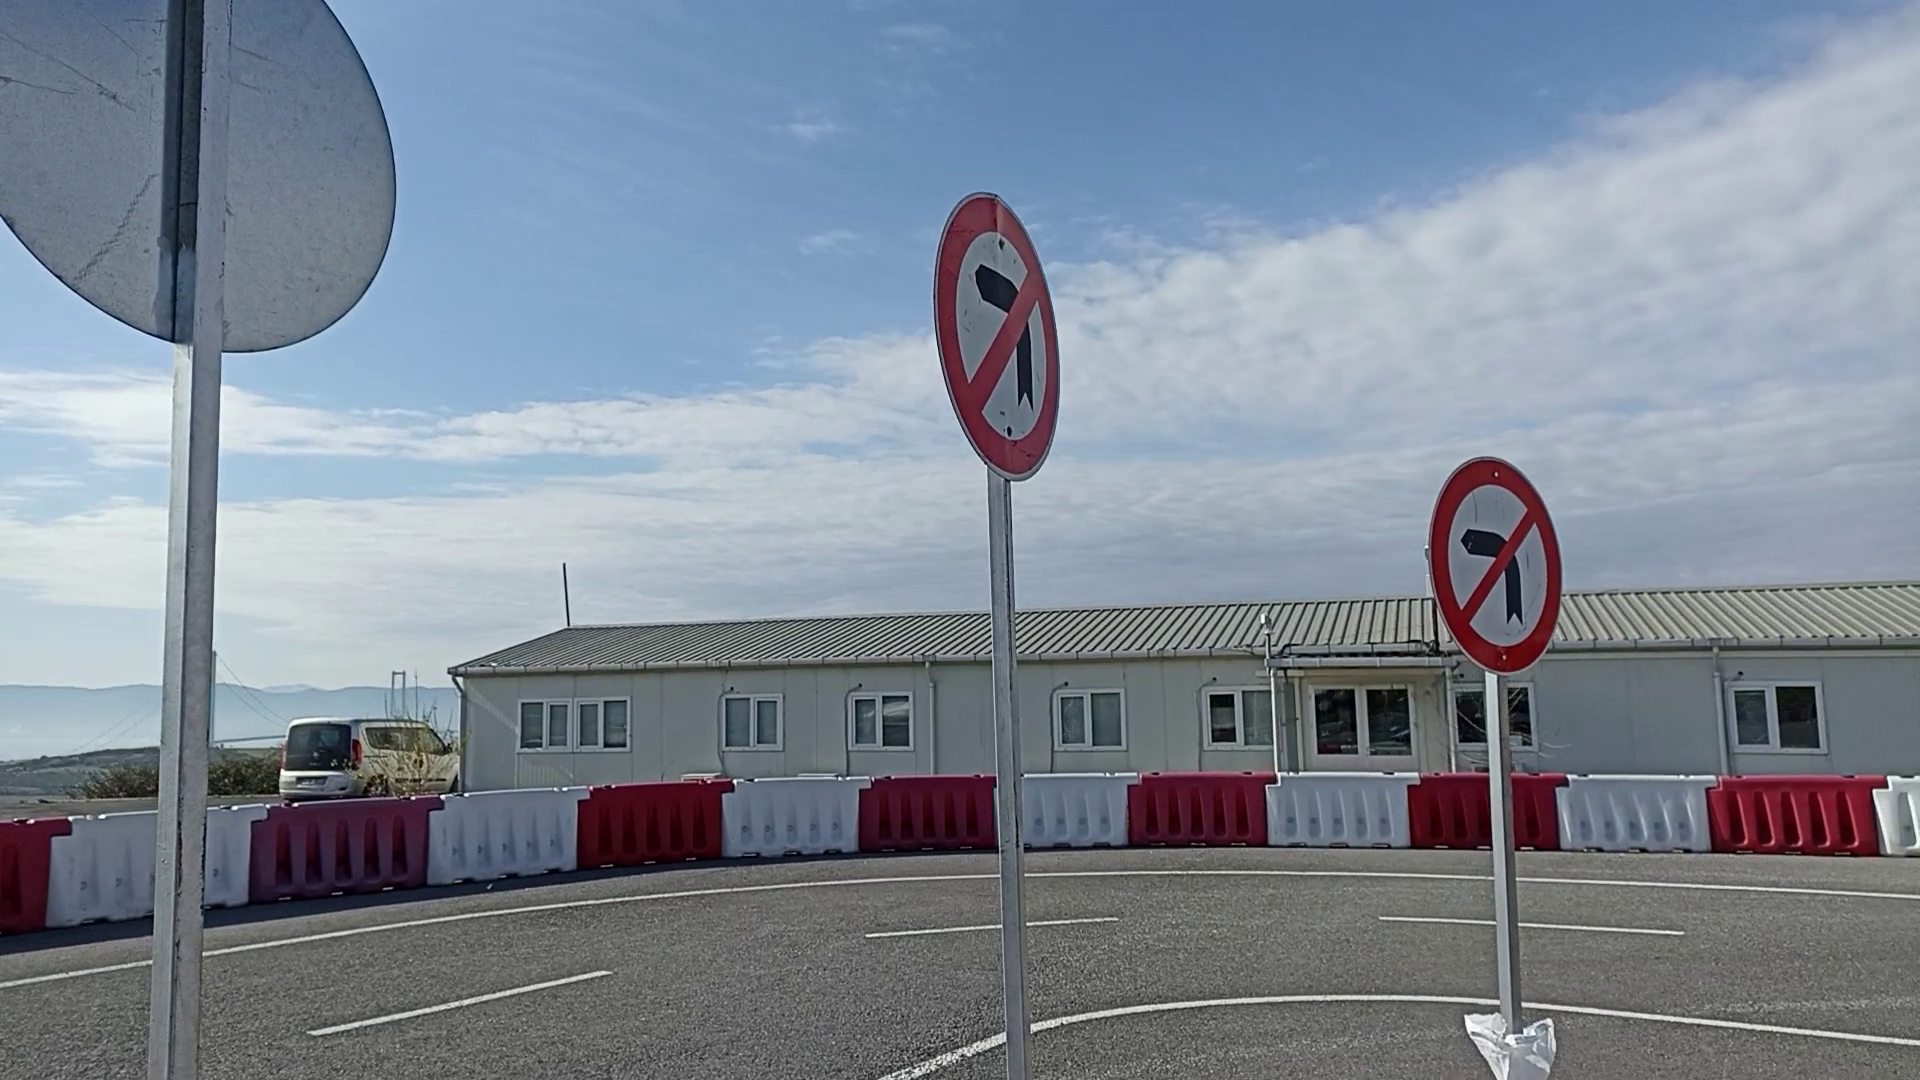noleft: (930, 187, 1067, 485), (1423, 454, 1569, 676)
